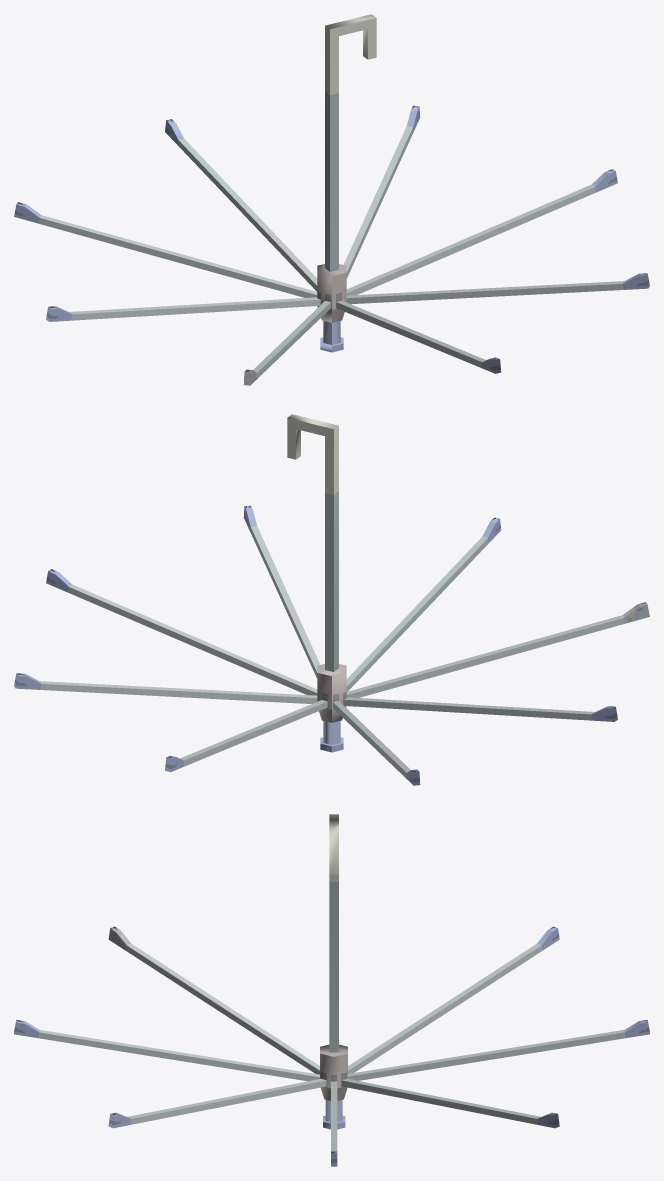
Rendered from 04ae_Laundry_Hanger.glb.
3 views of the same model, one above another, from view 1: azimuth 30°, elevation 25°; view 2: azimuth 150°, elevation 25°; view 3: azimuth 270°, elevation 25° (orthographic). The views are drawn at different scales.
Visible parts, largest first — view 1: part_0; view 2: part_0; view 3: part_0.
Boxes of the visible parts, x1,y1,x2,y2 form: part_0: (14, 14, 649, 385); part_0: (14, 414, 649, 785); part_0: (14, 814, 649, 1166).
Bounding box in the file's own units: 0.9769 × 0.5261 × 0.9836.
Materials: 1 (1 with a texture image).
